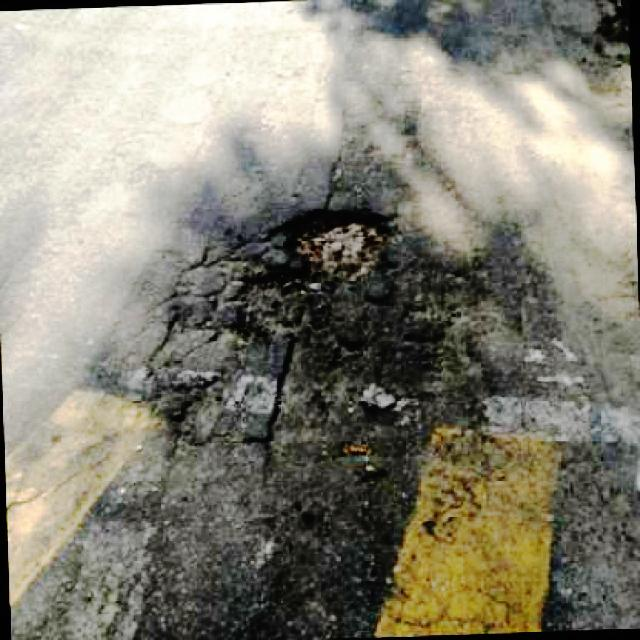pothole: (214, 204, 406, 336)
